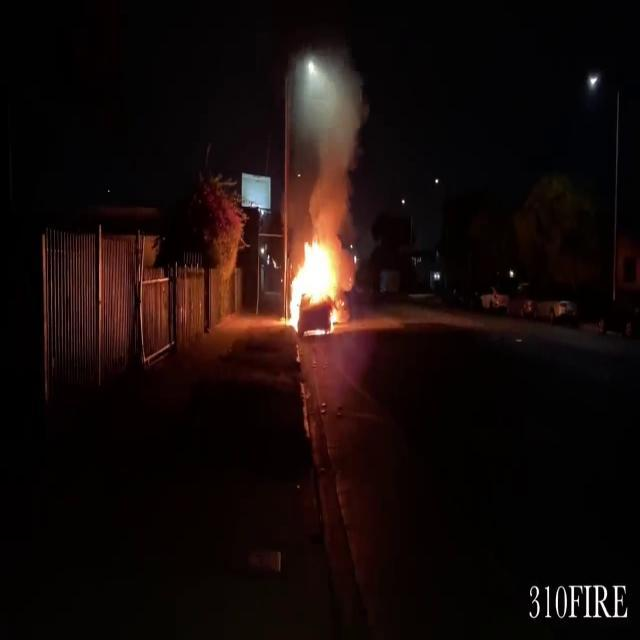Fire: (282, 230, 348, 334)
Smoke: (293, 64, 369, 230)
